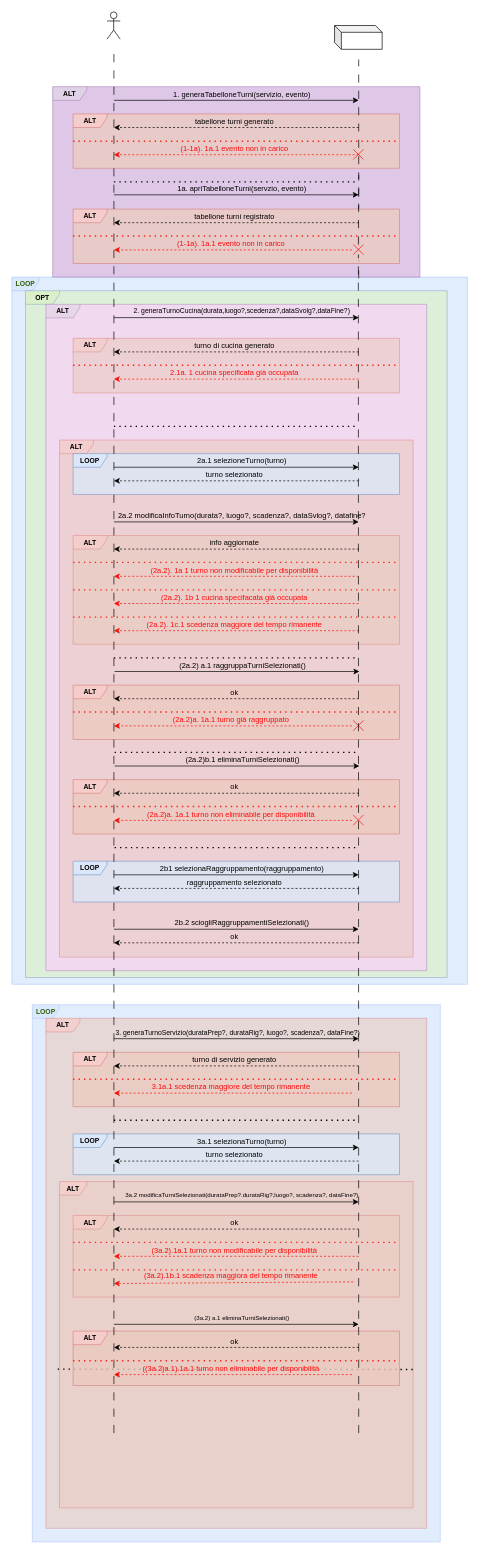
The diagram is 479 pixels wide and 1554 high, and some of its shapes have lost their labels. Here are the shapes that lost their labels. From the top down, the centre of each, then its label:
point 113,25: Organizzatore
point 358,37: Sistema
